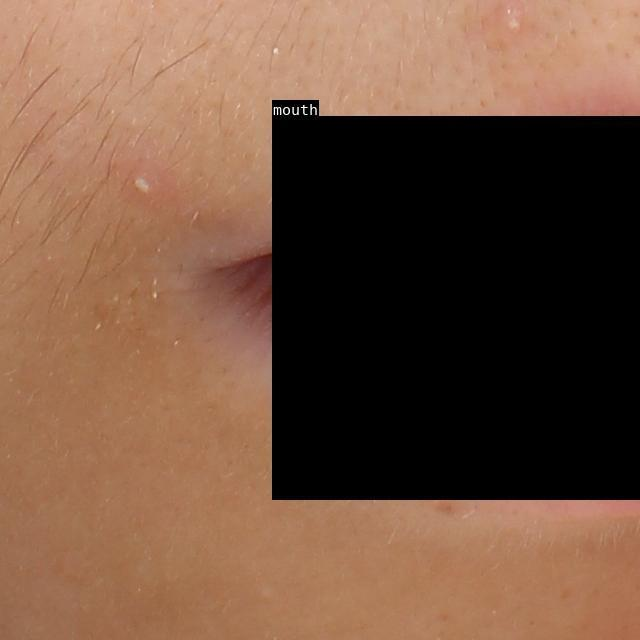pustule: (125, 162, 180, 206), (498, 8, 520, 37)
